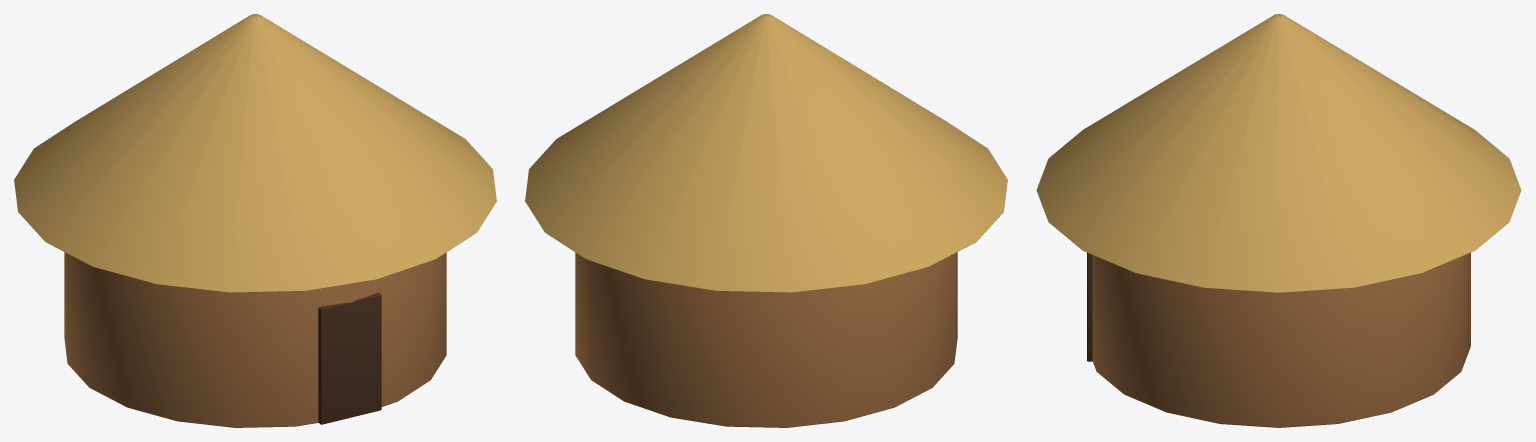
The model's file is rg_africa_1.glb.
3 views of the same model, side by side, from view 1: azimuth 30°, elevation 25°; view 2: azimuth 150°, elevation 25°; view 3: azimuth 270°, elevation 25° (orthographic).
Parts seen in each view (by area): view 1: rg_africa_1; view 2: rg_africa_1; view 3: rg_africa_1.
Boxes of the visible parts, x1,y1,x2,y2 form: rg_africa_1: (14, 14, 496, 427); rg_africa_1: (525, 14, 1007, 427); rg_africa_1: (1036, 14, 1521, 427).
Bounding box in the file's own units: 7.58 × 5.7 × 7.58.
